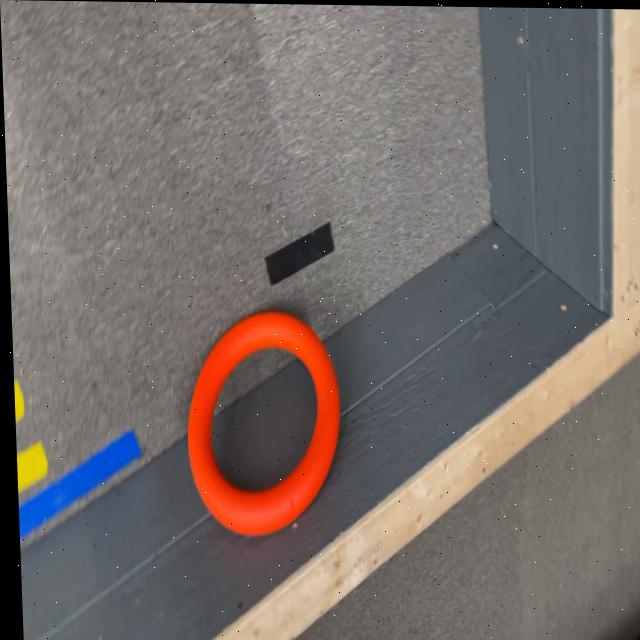note: (182, 308, 340, 535)
